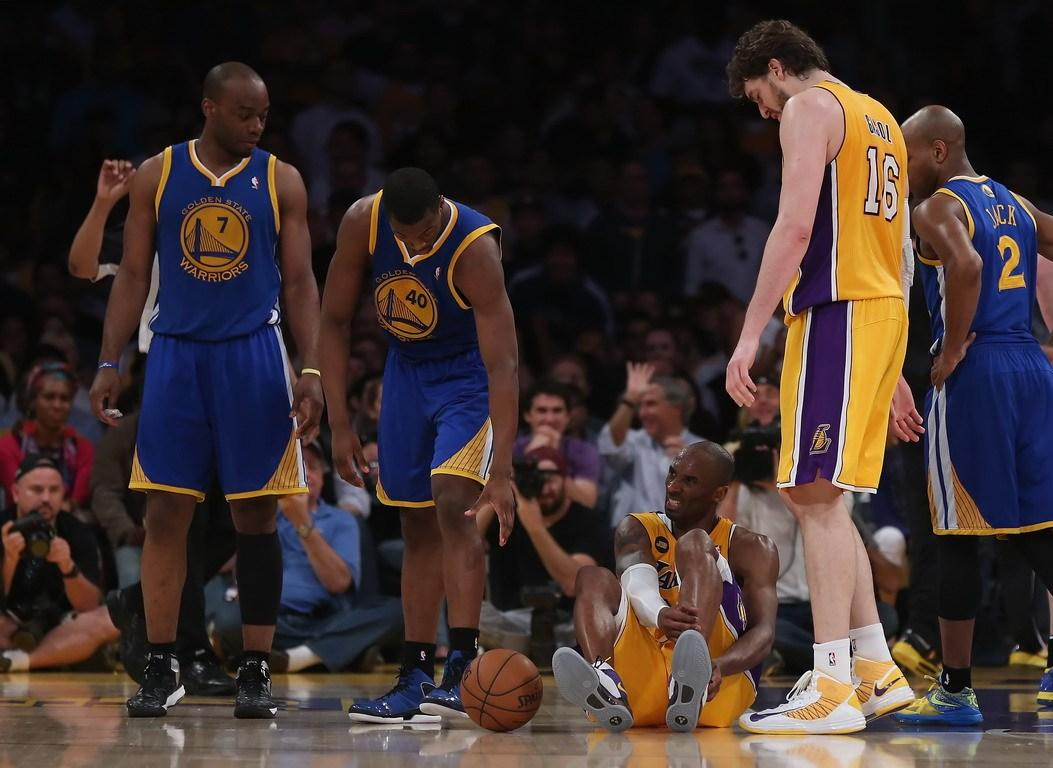bending: (315, 149, 523, 730), (1, 453, 130, 686)
down: (543, 435, 795, 741)
up: (82, 53, 325, 730), (721, 17, 925, 745), (898, 97, 1053, 733)
